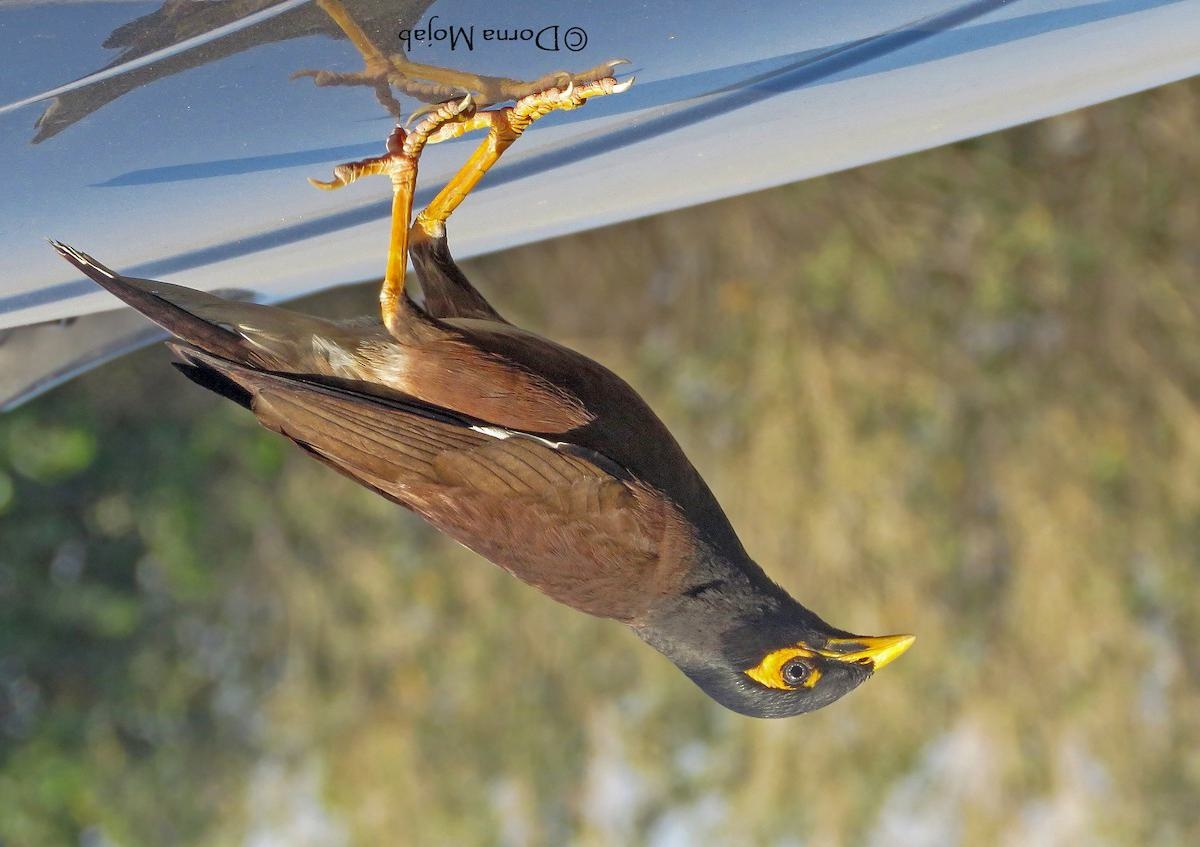myna: (175, 70, 944, 751)
